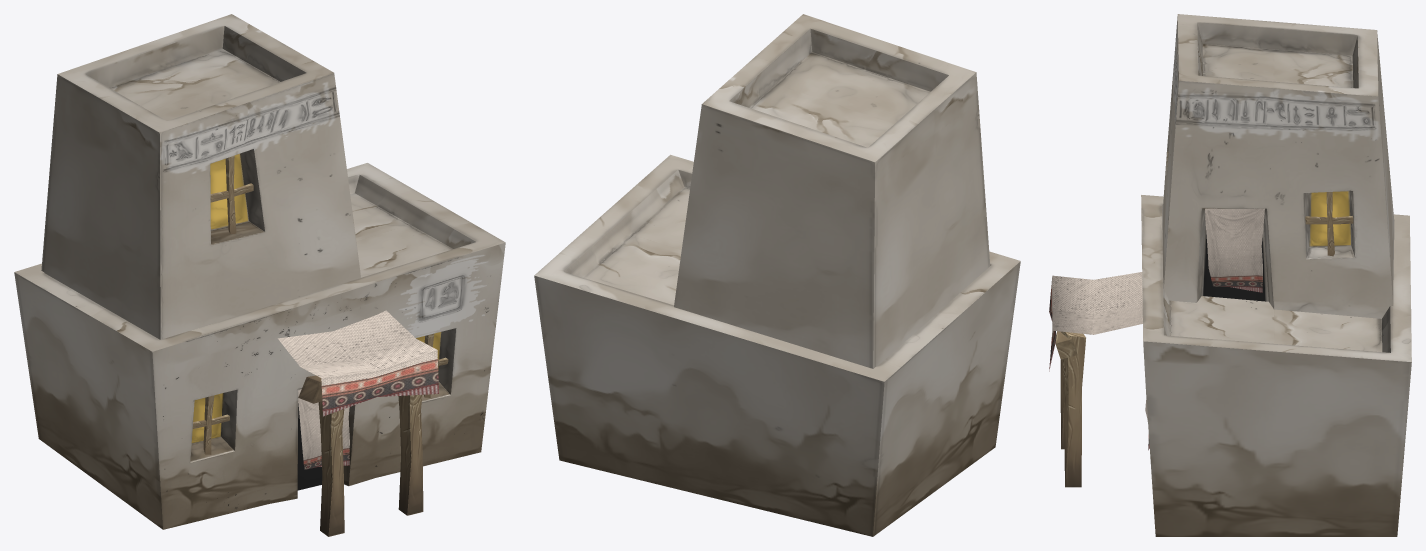
Rendered from Egypt_Village_Buildings_03.FBX.
3 views of the same model, side by side, from view 1: azimuth 30°, elevation 25°; view 2: azimuth 150°, elevation 25°; view 3: azimuth 270°, elevation 25° (orthographic). The views are drawn at different scales.
Visible parts, largest first — view 1: Egypt_Village_Buildings_03; view 2: Egypt_Village_Buildings_03; view 3: Egypt_Village_Buildings_03.
Boxes of the visible parts, left/top/right/bottom form: Egypt_Village_Buildings_03: left=14, top=14, right=505, bottom=536; Egypt_Village_Buildings_03: left=534, top=14, right=1020, bottom=536; Egypt_Village_Buildings_03: left=1049, top=14, right=1411, bottom=536.
Bounding box in the file's own units: 664 × 727 × 605.
